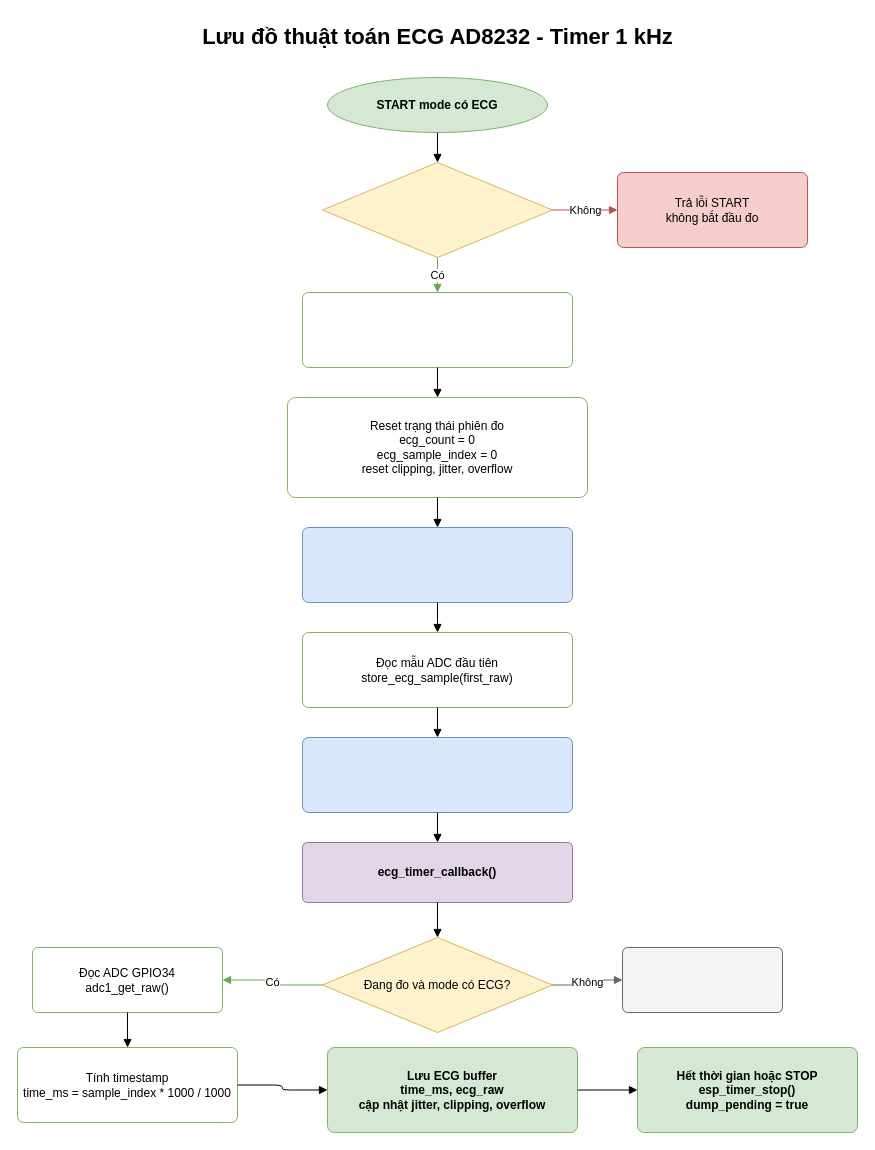
Some shapes in this 875 by 1150 pixel diagram are drawn without their labels. Here are the shapes that lost their labels. From the top down, the centre of each, then its label:
point 437,210: ADC AD8232 đã sẵn sàng?
point 437,330: Cấp phát ECG buffer duration_s * 1000 + 1000 mẫu
point 437,564: Lưu measurement_start_us measurement_running = true
point 437,774: Start esp_timer periodic chu kỳ 1000 us = 1 ms
point 702,979: Thoát callback
